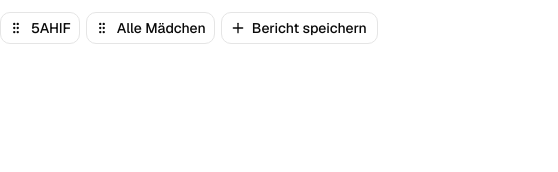
Test: saving the report as it stands › refuses a blank name rather than saving a report nothing can be opened by
Click the button "Bericht speichern".
click(299, 28)  # box [221,12,378,44]
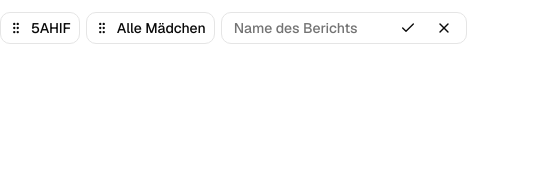
Click the button named "Speichern".
click(408, 28)  # box [392,12,424,44]
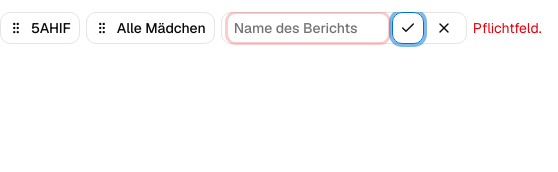
expect the text "Pflichtfeld." is shown: met, box [473,18,542,38]
